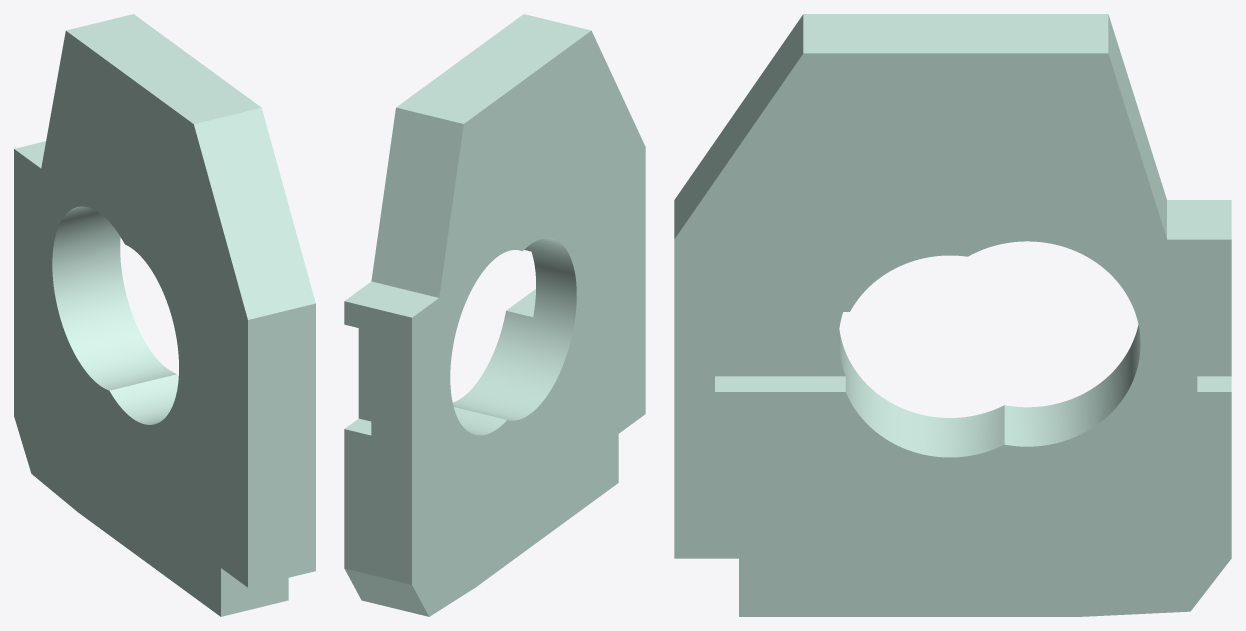
The picture shows the model from 3 angles, left to right: view 1: azimuth 30°, elevation 25°; view 2: azimuth 150°, elevation 25°; view 3: azimuth 270°, elevation 25°; orthographic projection. The views are drawn at different scales.
Visible parts, largest first — view 1: Renderer Node; view 2: Renderer Node; view 3: Renderer Node.
Boxes of the visible parts, x1,y1,x2,y2 form: Renderer Node: (14, 14, 315, 616); Renderer Node: (344, 14, 645, 616); Renderer Node: (674, 14, 1231, 616).
Bounding box in the file's own units: 0.2344 × 1.56 × 1.4.
